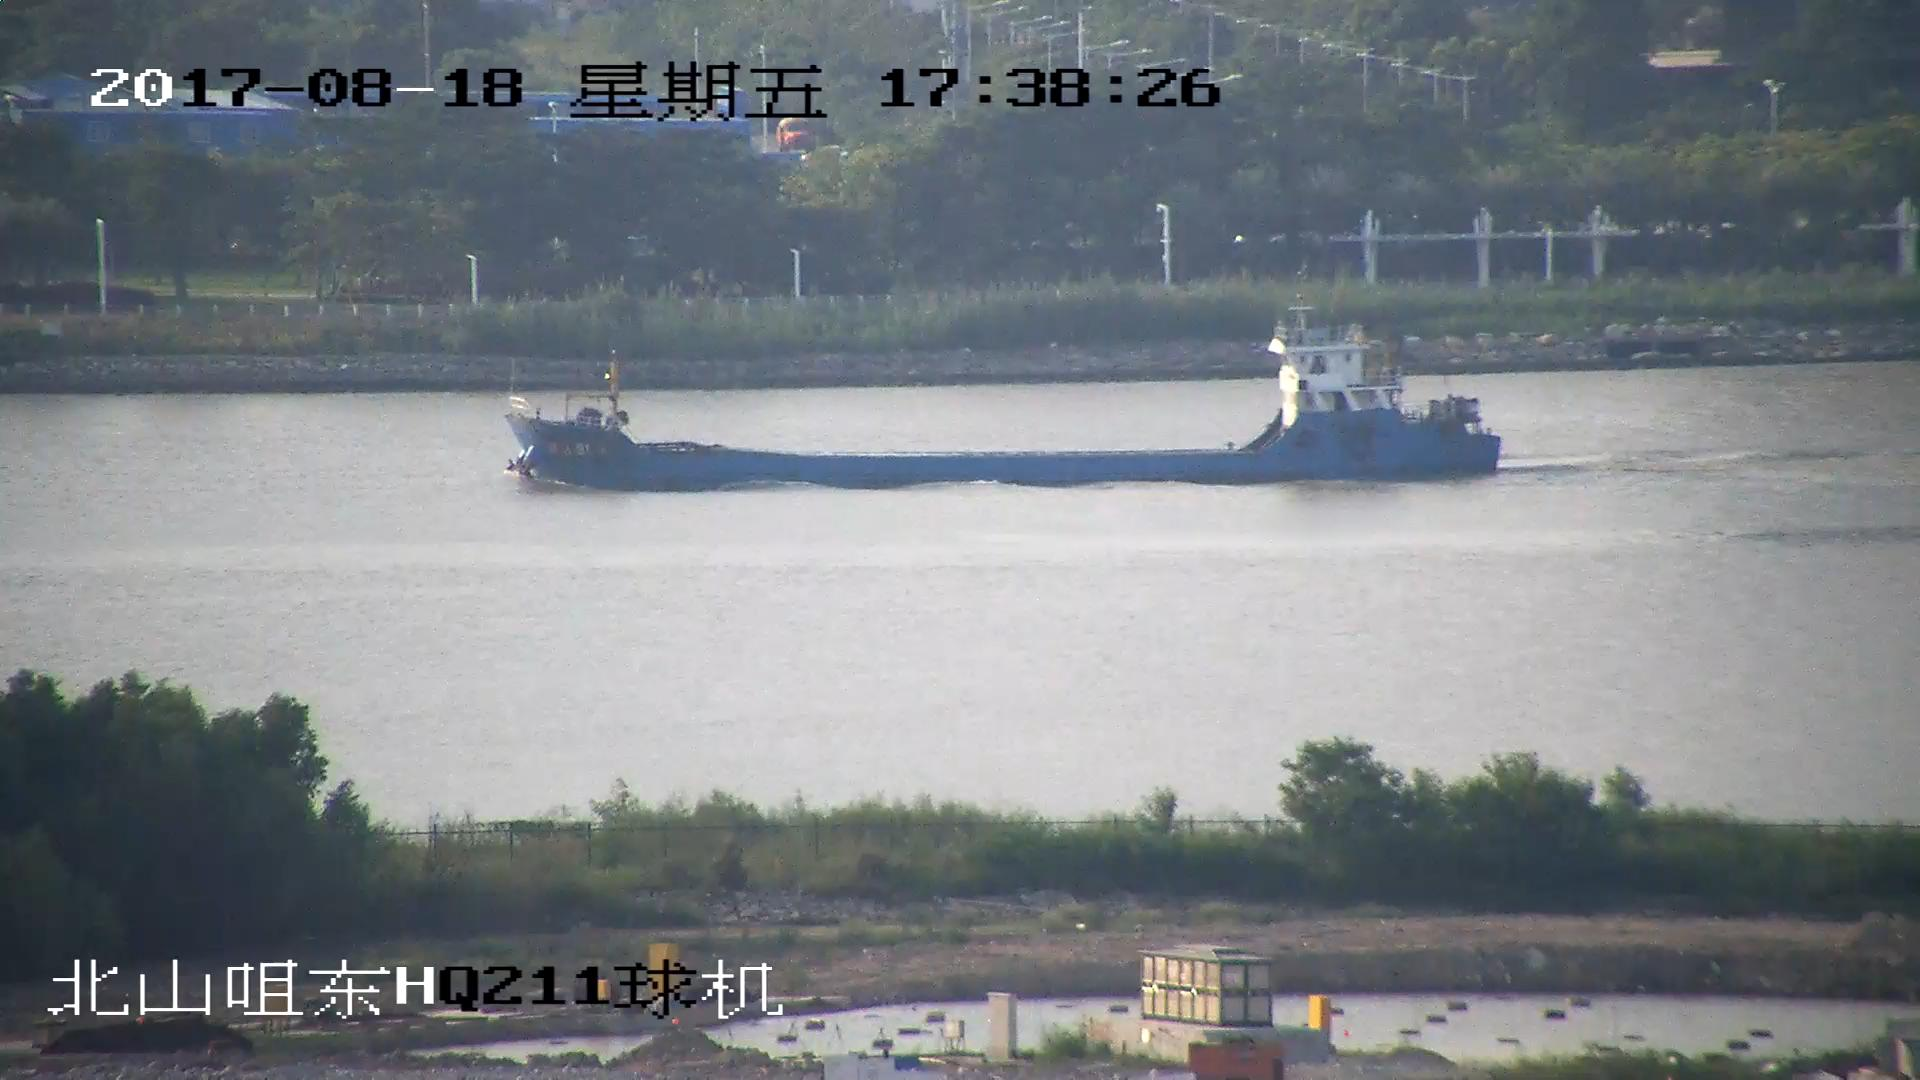general cargo ship: (507, 265, 1501, 489)
